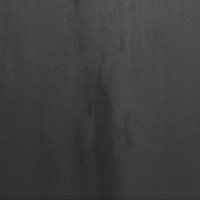inclusion: (74, 42, 121, 198), (113, 26, 130, 67)
